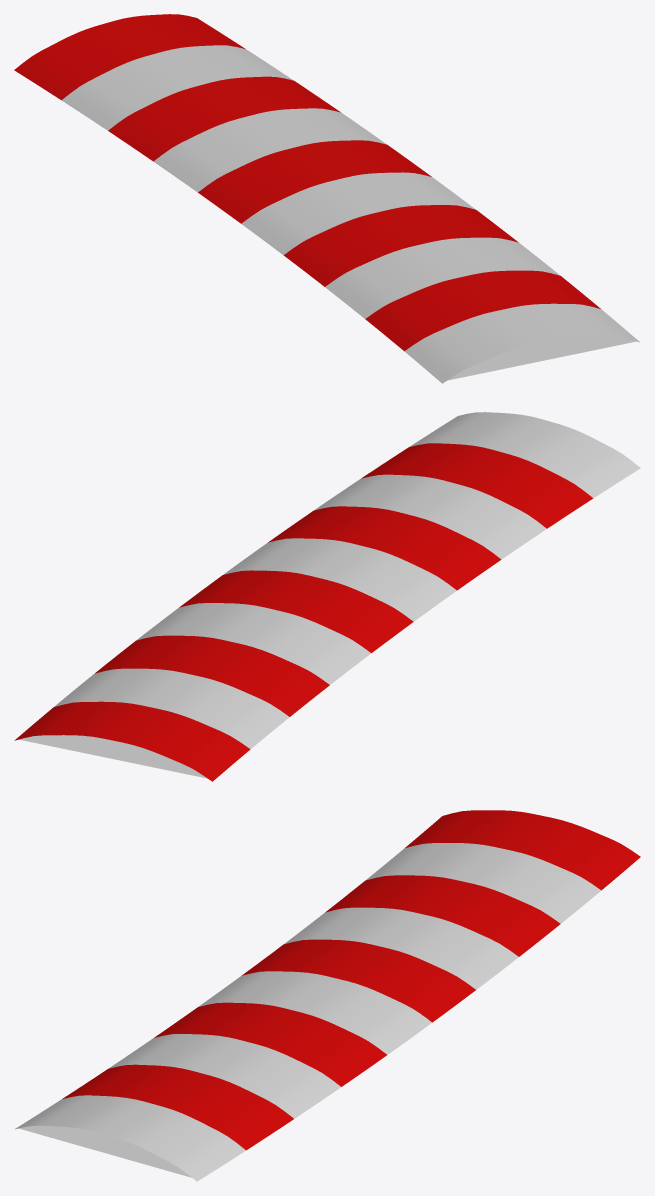
Rendered from right_curb_min 1.dae.
The picture shows the model from 3 angles, top to bottom: view 1: azimuth 30°, elevation 25°; view 2: azimuth 150°, elevation 25°; view 3: azimuth 330°, elevation 25°; orthographic projection.
Visible parts, largest first — view 1: pPlane1, pPlane4, pPlane2; view 2: pPlane4, pPlane1, pPlane3; view 3: pPlane1, pPlane4, pPlane2.
Boxes of the visible parts, x1=… form: pPlane1: x1=241, y1=172, x2=640, y2=383; pPlane4: x1=14, y1=14, x2=431, y2=223; pPlane2: x1=447, y1=337, x2=635, y2=380; pPlane4: x1=14, y1=570, x2=413, y2=781; pPlane1: x1=223, y1=412, x2=640, y2=621; pPlane3: x1=19, y1=735, x2=207, y2=778; pPlane1: x1=15, y1=971, x2=432, y2=1181; pPlane4: x1=241, y1=810, x2=640, y2=1022; pPlane2: x1=19, y1=1125, x2=191, y2=1177.
Bounding box in the file's own units: 1.07 × 0.104 × 4.03.
